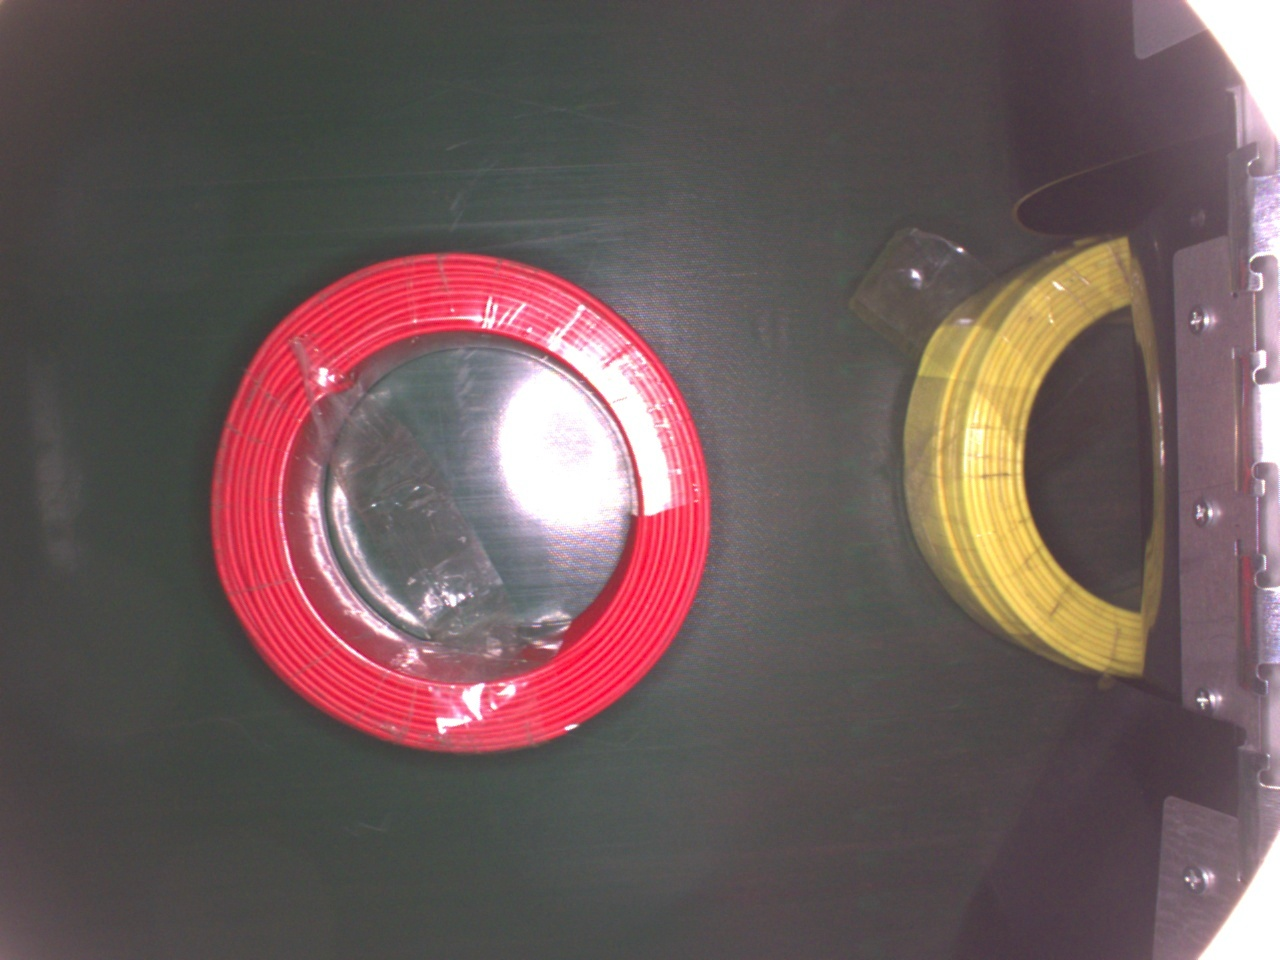red: (196, 251, 718, 767)
yellow: (899, 231, 1150, 679)
